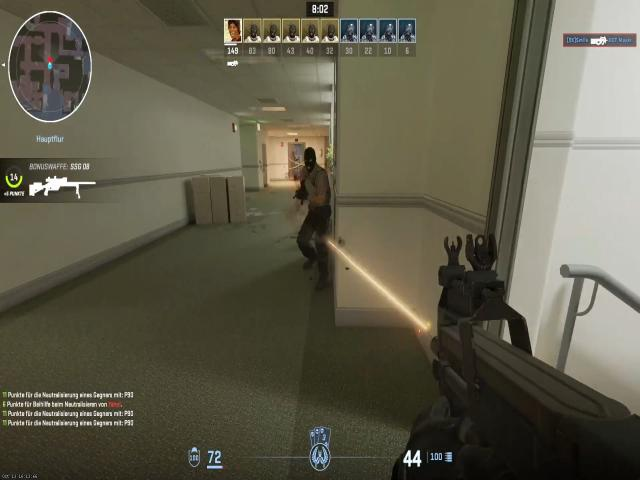T: (294, 142, 332, 236)
T-Head: (298, 143, 322, 173)
